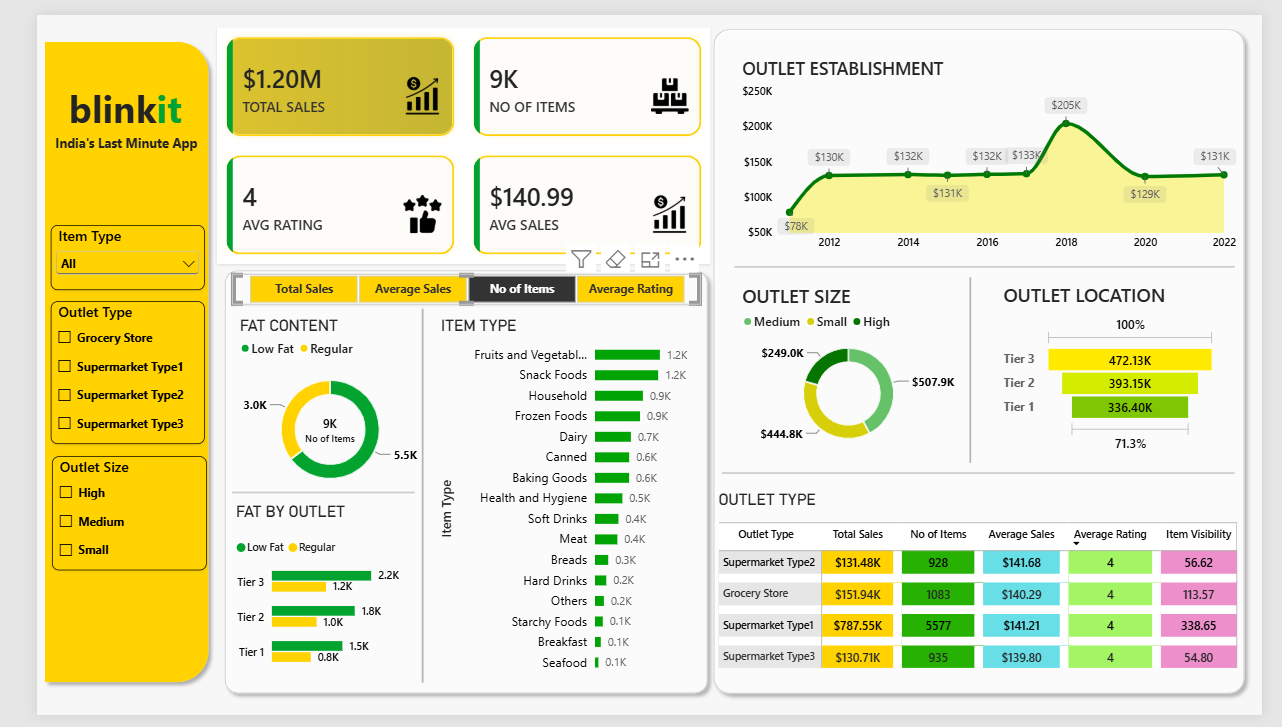

The dashboard page shown, as its layout file describes it:
{"tool":"powerbi","page":{"name":"Page 1","canvas":[1400,800],"ordinal":0},"visuals":[{"type":"shape","box":[0,21.4,205.1,750],"z":0},{"type":"textbox","box":[16.1,76.4,170.2,68.4],"z":1000},{"type":"cardVisual","fields":{"Data":["BlinkIT Grocery Data.Total Sales","BlinkIT Grocery Data.No of Items","BlinkIT Grocery Data.Average Rating","BlinkIT Grocery Data.Average Sales"]},"box":[205,13.8,564,270],"z":2000},{"type":"shape","box":[205.1,282.8,569.7,501.3],"z":3000},{"type":"donutChart","title":"FAT CONTENT","fields":{"Category":["BlinkIT Grocery Data.Item Fat Content"],"Y":["BlinkIT Grocery Data.Average Sales"]},"box":[215.8,329.8,238.6,238.6],"z":4000},{"type":"slicer","fields":{"Values":["Matrics.Matrics"]},"box":[222.5,296.2,536.2,34.9],"z":5000},{"type":"textbox","box":[17.1,136.2,170,24.3],"z":6000},{"type":"shape","box":[764.1,6.7,624.7,777.5],"z":7000},{"type":"barChart","title":"ITEM TYPE","fields":{"Category":["BlinkIT Grocery Data.Item Type"],"Y":["BlinkIT Grocery Data.Average Sales"]},"box":[445,329.8,313.7,441],"z":8000},{"type":"clusteredBarChart","title":"FAT BY OUTLET","fields":{"Category":["BlinkIT Grocery Data.Outlet Location Type"],"Series":["BlinkIT Grocery Data.Item Fat Content"],"Y":["BlinkIT Grocery Data.Average Sales"]},"box":[211.4,542.9,230,220],"z":9000},{"type":"shape","box":[222.9,438.6,208.6,214.3],"z":9500},{"type":"lineChart","title":"OUTLET ESTABLISHMENT","fields":{"Category":["BlinkIT Grocery Data.Outlet Establishment Year"],"Y":["BlinkIT Grocery Data.Total Sales"]},"box":[789.5,32.2,596.5,256],"z":10000},{"type":"cardVisual","fields":{"Data":["BlinkIT Grocery Data.Average Sales"]},"box":[284.2,443.7,101.9,60.3],"z":11000},{"type":"shape","box":[335.7,335.7,210,427.1],"z":13000},{"type":"shape","box":[797.6,167.6,572.4,241.3],"z":14000},{"type":"donutChart","title":"OUTLET SIZE","fields":{"Category":["BlinkIT Grocery Data.Outlet Size"],"Y":["BlinkIT Grocery Data.Total Sales"]},"box":[789.5,290.9,274.8,225.2],"z":15000},{"type":"shape","box":[961.1,300.3,210.5,211.8],"z":16000},{"type":"funnel","title":"OUTLET LOCATION","fields":{"Category":["BlinkIT Grocery Data.Outlet Location Type"],"Y":["Sum(BlinkIT Grocery Data.Sales)"]},"box":[1088.5,289.5,274.8,225.2],"z":17000},{"type":"shape","box":[782.8,403.5,585.8,241.3],"z":18000},{"type":"pivotTable","title":"OUTLET TYPE","fields":{"Rows":["BlinkIT Grocery Data.Outlet Type"],"Values":["BlinkIT Grocery Data.Total Sales","BlinkIT Grocery Data.No of Items","BlinkIT Grocery Data.Average Sales","BlinkIT Grocery Data.Average Rating","Sum(BlinkIT Grocery Data.Item Visibility)"]},"box":[762.7,528.2,635.4,248],"z":19000},{"type":"slicer","fields":{"Values":["BlinkIT Grocery Data.Outlet Type"]},"box":[15.7,327.1,175.7,162.9],"z":20000},{"type":"slicer","fields":{"Values":["BlinkIT Grocery Data.Outlet Size"]},"box":[17.1,504.3,177.1,130],"z":21000},{"type":"slicer","fields":{"Values":["BlinkIT Grocery Data.Item Type"]},"box":[15.7,240,175.7,74.3],"z":22000}]}

Visuals, with their boxes in screenshot pixels (x1, y1, x2, y2), scaled from the page's 1400x800 canvas onto the 1282x727 screenshot:
shape: (x1=0, y1=19, x2=188, y2=701)
textbox: (x1=15, y1=69, x2=171, y2=132)
cardVisual - BlinkIT Grocery Data.Total Sales x BlinkIT Grocery Data.No of Items: (x1=188, y1=13, x2=704, y2=258)
shape: (x1=188, y1=257, x2=709, y2=713)
"FAT CONTENT" donutChart: (x1=198, y1=300, x2=416, y2=517)
slicer - Matrics.Matrics: (x1=204, y1=269, x2=695, y2=301)
textbox: (x1=16, y1=124, x2=171, y2=146)
shape: (x1=700, y1=6, x2=1272, y2=713)
"ITEM TYPE" barChart: (x1=407, y1=300, x2=695, y2=700)
"FAT BY OUTLET" clusteredBarChart: (x1=194, y1=493, x2=404, y2=693)
shape: (x1=204, y1=399, x2=395, y2=593)
"OUTLET ESTABLISHMENT" lineChart: (x1=723, y1=29, x2=1269, y2=262)
cardVisual - BlinkIT Grocery Data.Average Sales: (x1=260, y1=403, x2=354, y2=458)
shape: (x1=307, y1=305, x2=500, y2=693)
shape: (x1=730, y1=152, x2=1255, y2=372)
"OUTLET SIZE" donutChart: (x1=723, y1=264, x2=975, y2=469)
shape: (x1=880, y1=273, x2=1073, y2=465)
"OUTLET LOCATION" funnel: (x1=997, y1=263, x2=1248, y2=468)
shape: (x1=717, y1=367, x2=1253, y2=586)
"OUTLET TYPE" pivotTable: (x1=698, y1=480, x2=1280, y2=705)
slicer - BlinkIT Grocery Data.Outlet Type: (x1=14, y1=297, x2=175, y2=445)
slicer - BlinkIT Grocery Data.Outlet Size: (x1=16, y1=458, x2=178, y2=576)
slicer - BlinkIT Grocery Data.Item Type: (x1=14, y1=218, x2=175, y2=286)
